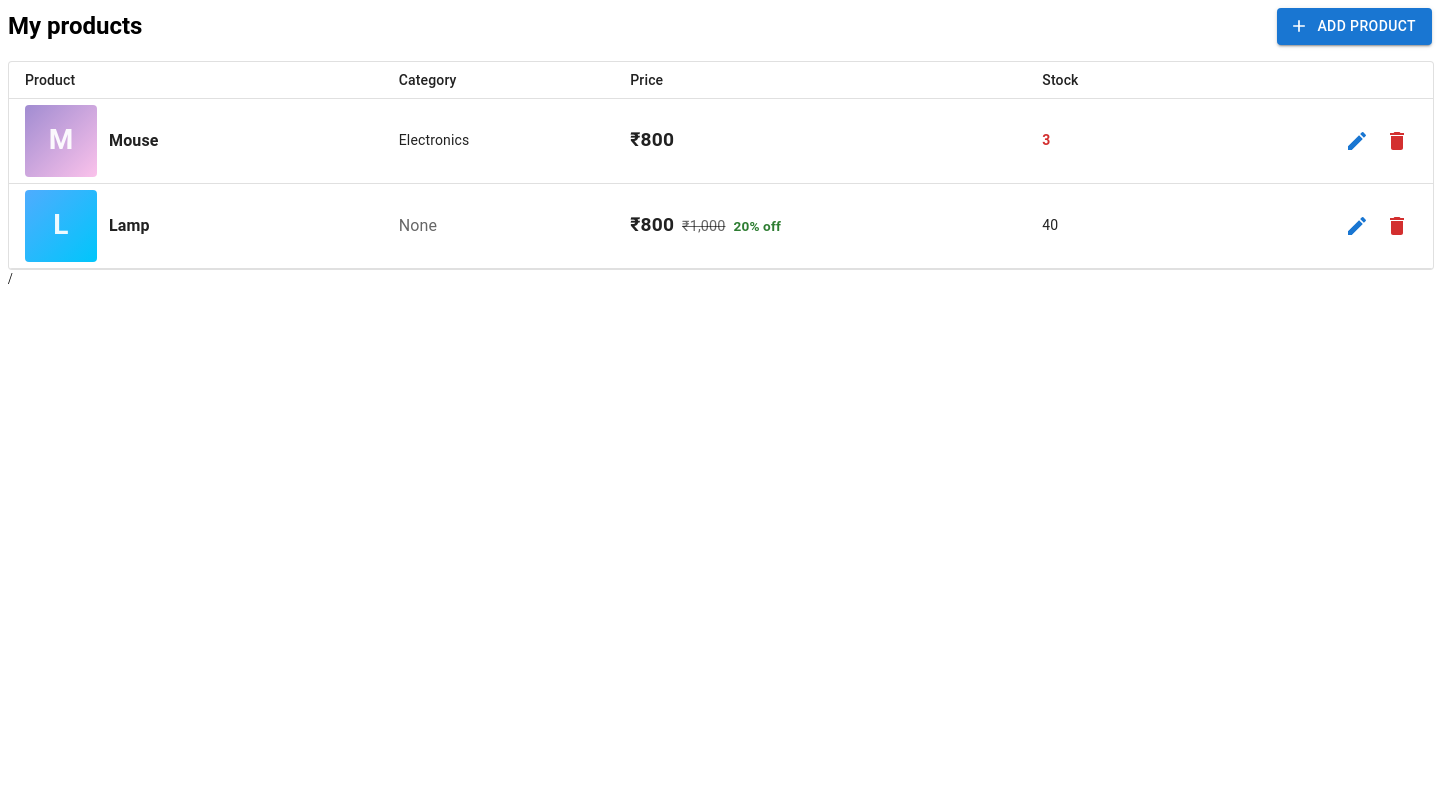
it: ProductManager › opens the edit dialog for a product
The image size is (1440, 810).
Expected: the text "Mouse" is shown, [109,128,159,152]
Step 1. Click the button named "Edit Mouse" → (1357, 140), box [1337,120,1377,160]
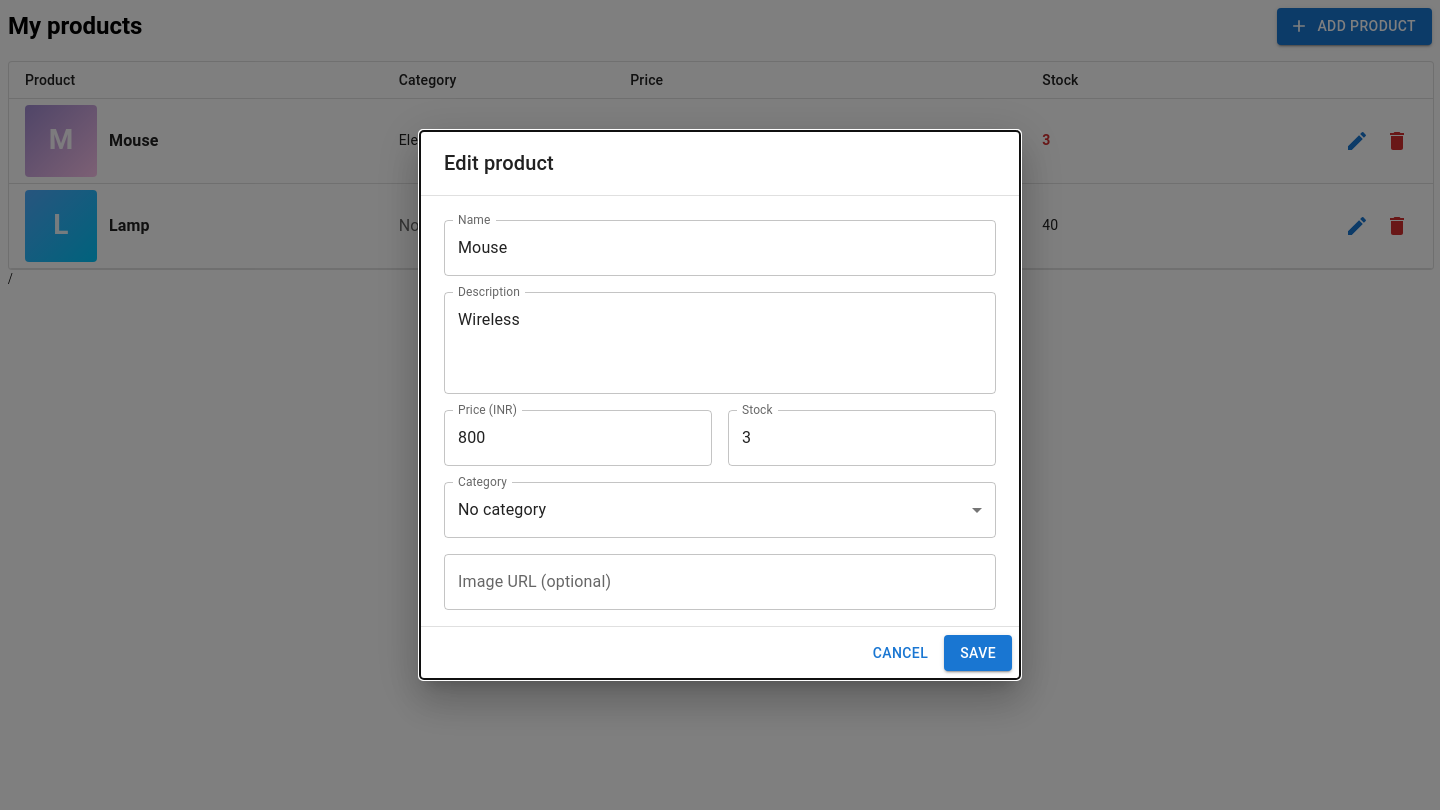
Result: the heading "Edit product" is shown at [444,151,554,175]
Result: the field labelled "Name" holds "Mouse" at [444,220,996,276]
